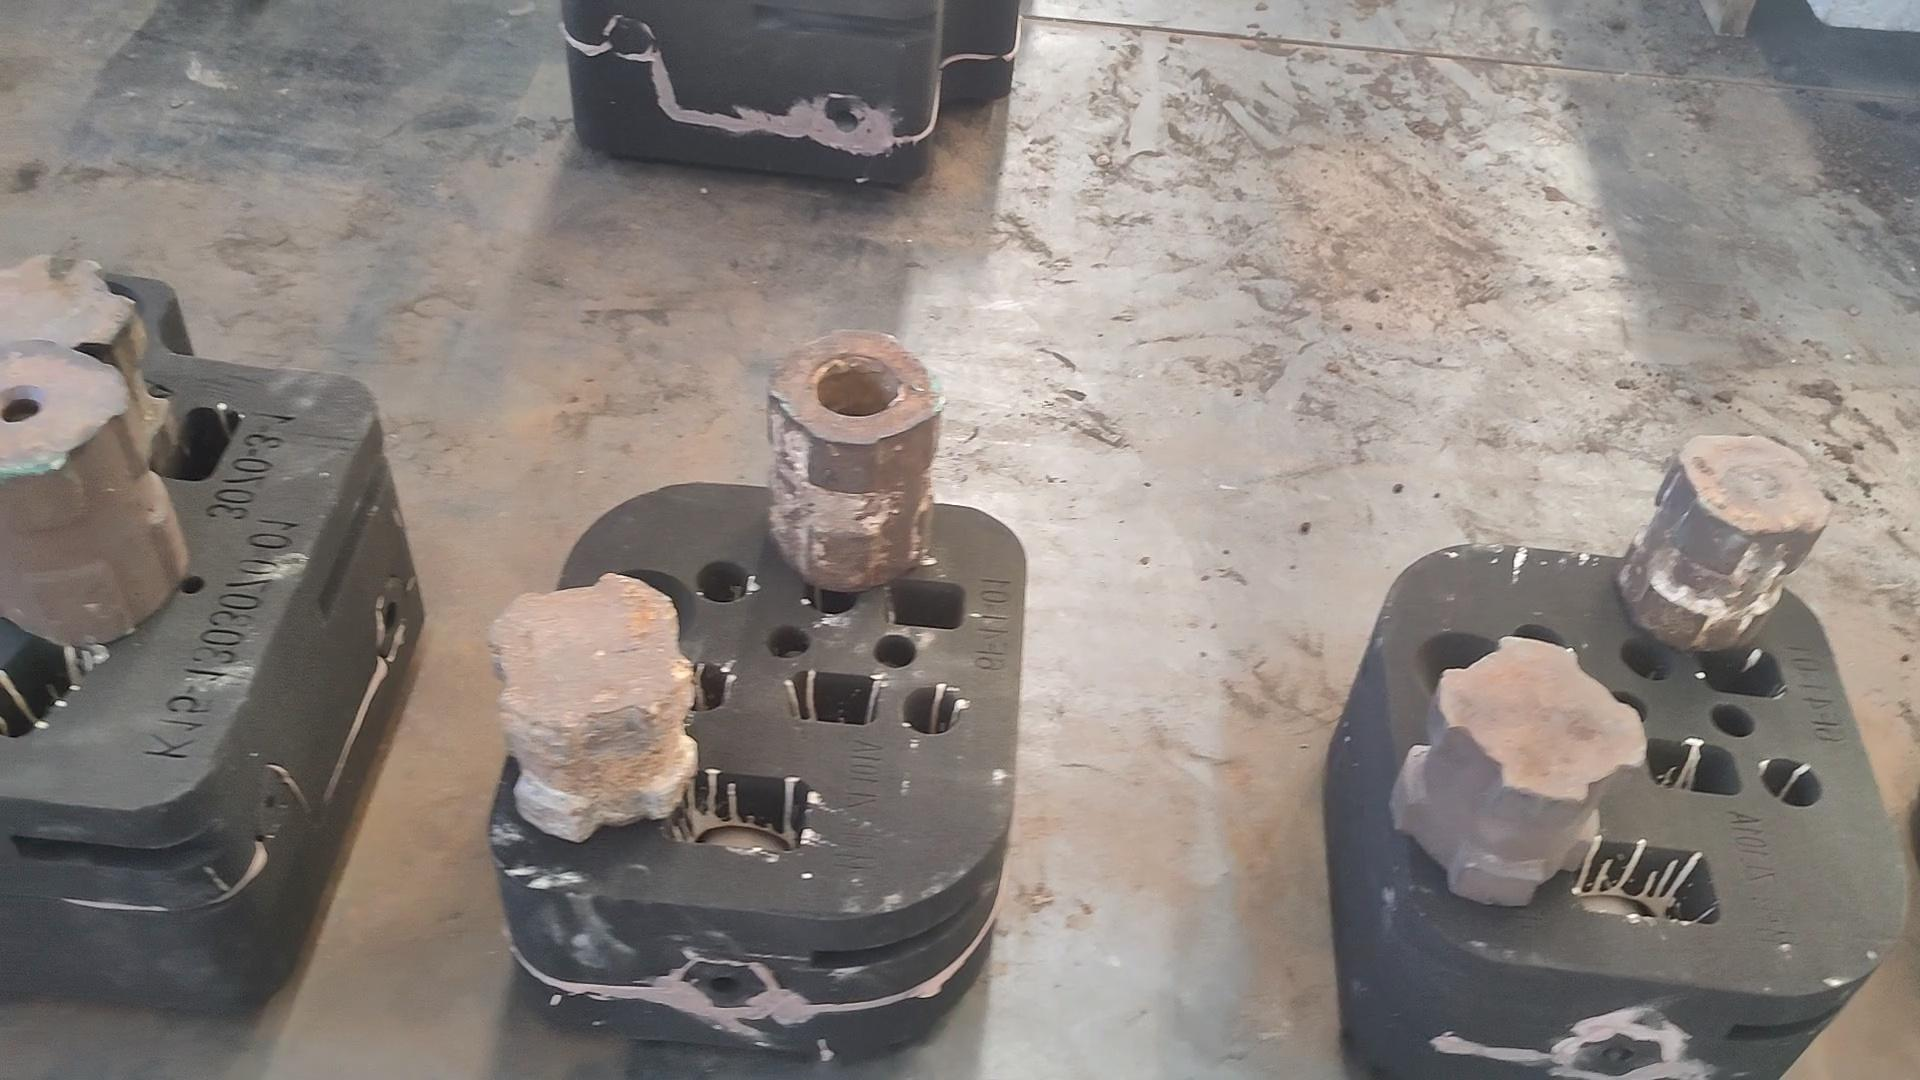pouring hole: (597, 568, 698, 651), (1418, 632, 1513, 713), (54, 278, 142, 342)
